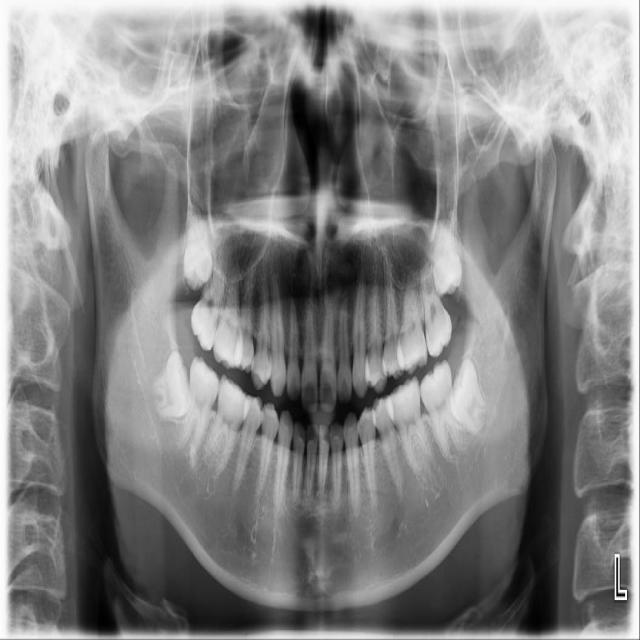impacted tooth: (449, 357, 488, 435), (148, 351, 189, 419), (424, 222, 461, 295), (184, 213, 212, 291)
